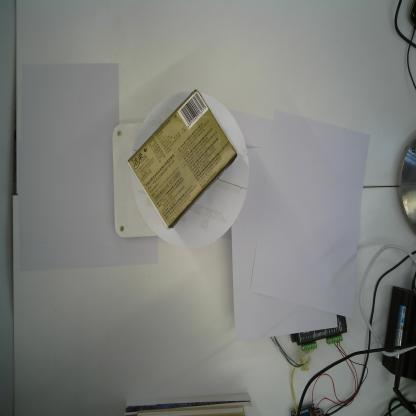Tissue: (126, 89, 238, 231)
